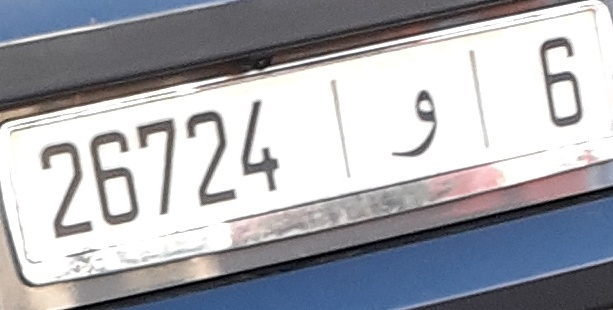2: (37, 139, 95, 238), (184, 111, 240, 207)
4: (236, 96, 286, 192)
6: (535, 35, 588, 126), (90, 131, 139, 227)
7: (135, 117, 176, 218)
waw: (388, 85, 442, 158)
